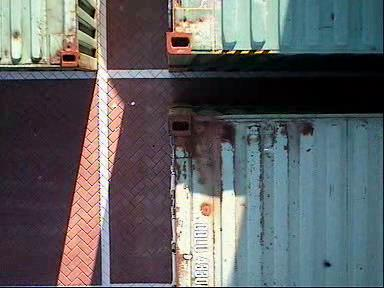groundmarker_2: (197, 136, 269, 253)
